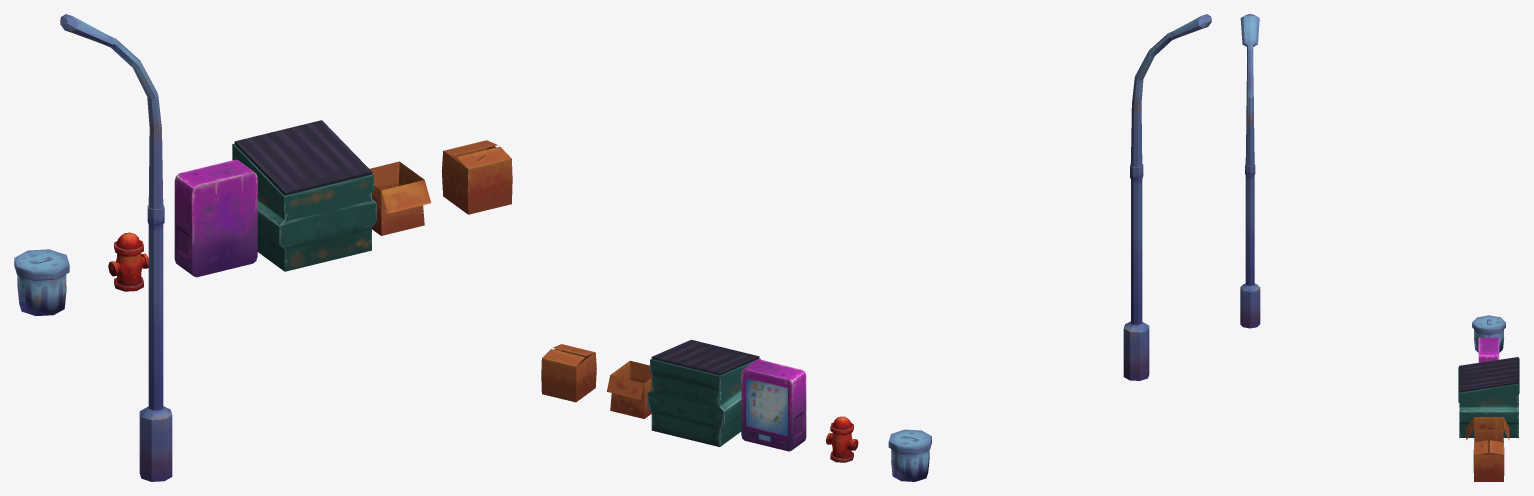
File: Props.fbx
3 views of the same model, side by side, from view 1: azimuth 30°, elevation 25°; view 2: azimuth 150°, elevation 25°; view 3: azimuth 270°, elevation 25° (orthographic). The views are drawn at different scales.
Visible parts, largest first — view 1: Dumpster, Lightpost.001, Machine.001, Box.001, Box_open.001, TrashCan.001, Hidrante; view 2: Dumpster, Machine.001, Lightpost.001, Box.001, Box_open.001, TrashCan.001, Hidrante; view 3: Dumpster, Lightpost.001, Box.001, Box_open.001, TrashCan.001, Machine.001.
Part boxes in pixels (x1=…): Dumpster: x1=232, y1=120, x2=376, y2=271; Lightpost.001: x1=60, y1=14, x2=172, y2=481; Machine.001: x1=174, y1=159, x2=257, y2=277; Box.001: x1=441, y1=140, x2=512, y2=214; Box_open.001: x1=369, y1=161, x2=431, y2=235; TrashCan.001: x1=14, y1=249, x2=69, y2=315; Hidrante: x1=108, y1=232, x2=148, y2=291; Dumpster: x1=647, y1=339, x2=760, y2=446; Machine.001: x1=741, y1=359, x2=806, y2=451; Lightpost.001: x1=1123, y1=14, x2=1211, y2=380; Box.001: x1=541, y1=344, x2=596, y2=402; Box_open.001: x1=607, y1=360, x2=651, y2=418; TrashCan.001: x1=888, y1=429, x2=931, y2=481; Hidrante: x1=826, y1=416, x2=858, y2=462; Dumpster: x1=1458, y1=357, x2=1519, y2=437; Lightpost.001: x1=1240, y1=14, x2=1260, y2=328; Box.001: x1=1473, y1=440, x2=1504, y2=481; Box_open.001: x1=1466, y1=417, x2=1509, y2=442; TrashCan.001: x1=1472, y1=315, x2=1505, y2=352; Machine.001: x1=1478, y1=337, x2=1499, y2=362.
Bounding box in the file's own units: 1465 × 1052 × 937.
